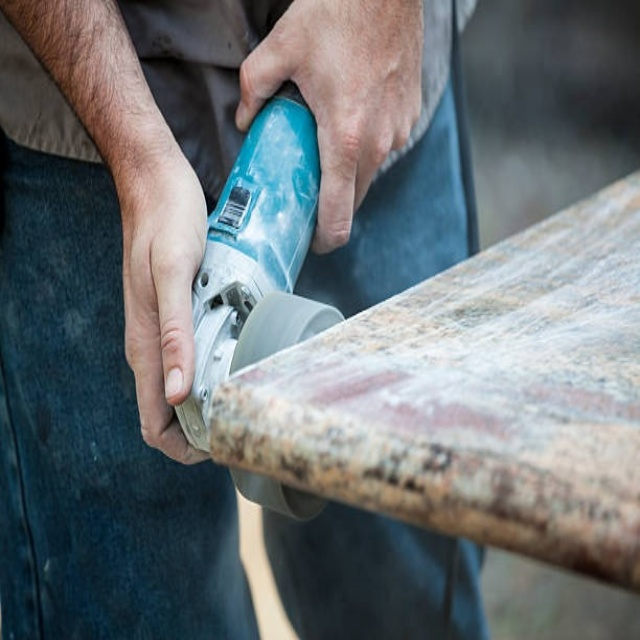Sin_guantes: (235, 1, 425, 258), (119, 145, 213, 459)
